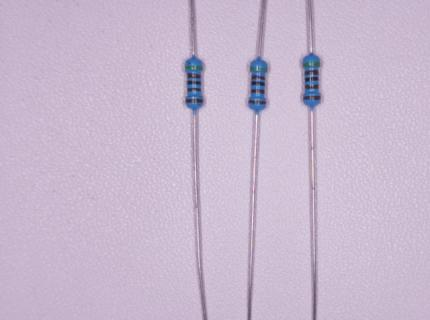Black band: (305, 76, 319, 82), (187, 81, 201, 85), (251, 82, 265, 86)
Brown band: (249, 100, 267, 104), (251, 75, 265, 80), (186, 99, 203, 103), (188, 73, 201, 78), (251, 89, 264, 94), (305, 70, 318, 75), (305, 84, 318, 89), (304, 96, 320, 100), (188, 88, 202, 91)
Green band: (185, 66, 202, 70), (250, 67, 267, 71), (303, 62, 320, 66)
